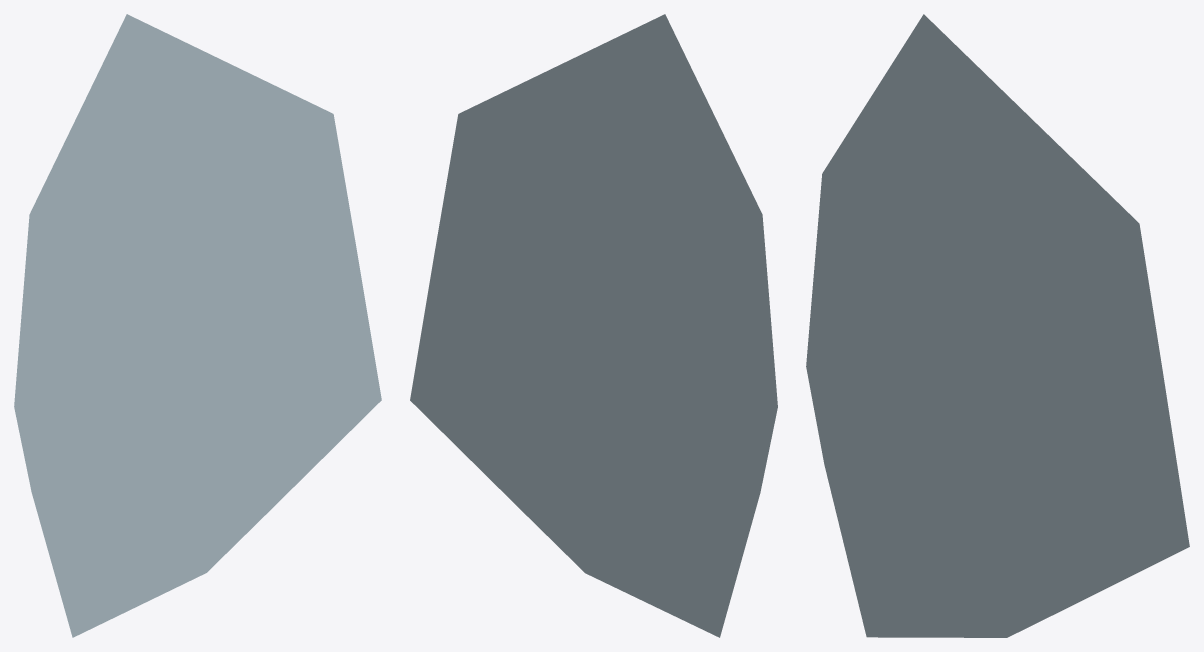
3 renders of one model, left to right at view 1: azimuth 30°, elevation 25°; view 2: azimuth 150°, elevation 25°; view 3: azimuth 330°, elevation 25°, orthographic. The views are drawn at different scales.
Visible parts, largest first — view 1: pCube28; view 2: pCube28; view 3: pCube28.
Boxes of the visible parts, left/top/right/bottom form: pCube28: left=14, top=14, right=381, bottom=637; pCube28: left=410, top=14, right=777, bottom=637; pCube28: left=806, top=14, right=1189, bottom=637.
Bounding box in the file's own units: 33.99 × 53.91 × 0.0421.
